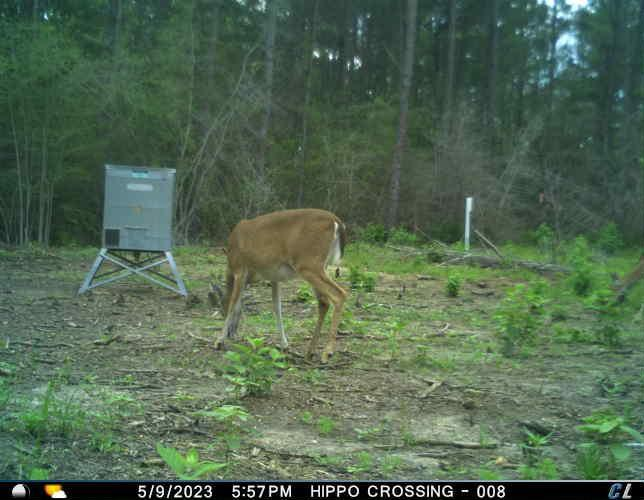Deer: (203, 202, 351, 371)
